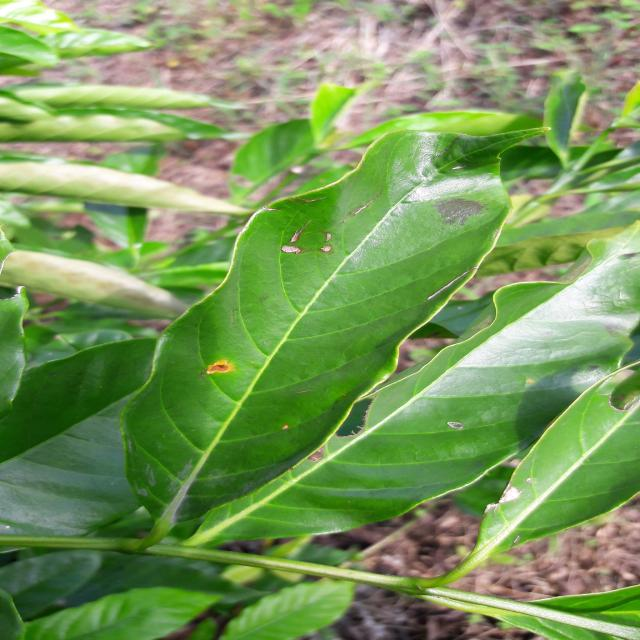Plaga-AranaRoja: (88, 110, 562, 552)
